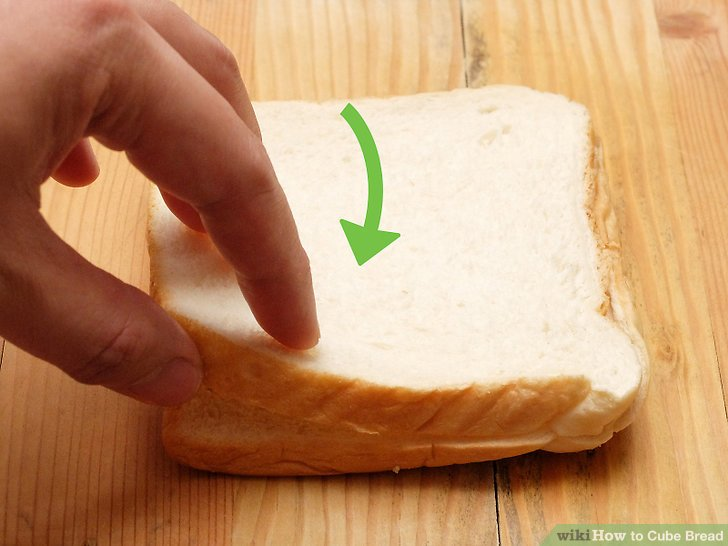slice of bread: (159, 84, 618, 483)
